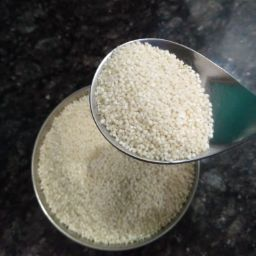Barnyard Millet(samak): (50, 85, 197, 245), (63, 90, 195, 249), (95, 36, 218, 174), (23, 107, 85, 256)
